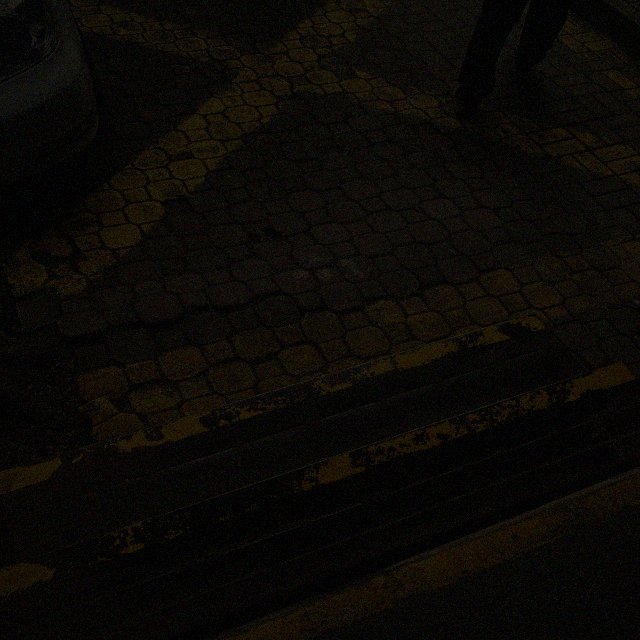stair: (0, 317, 639, 639)
